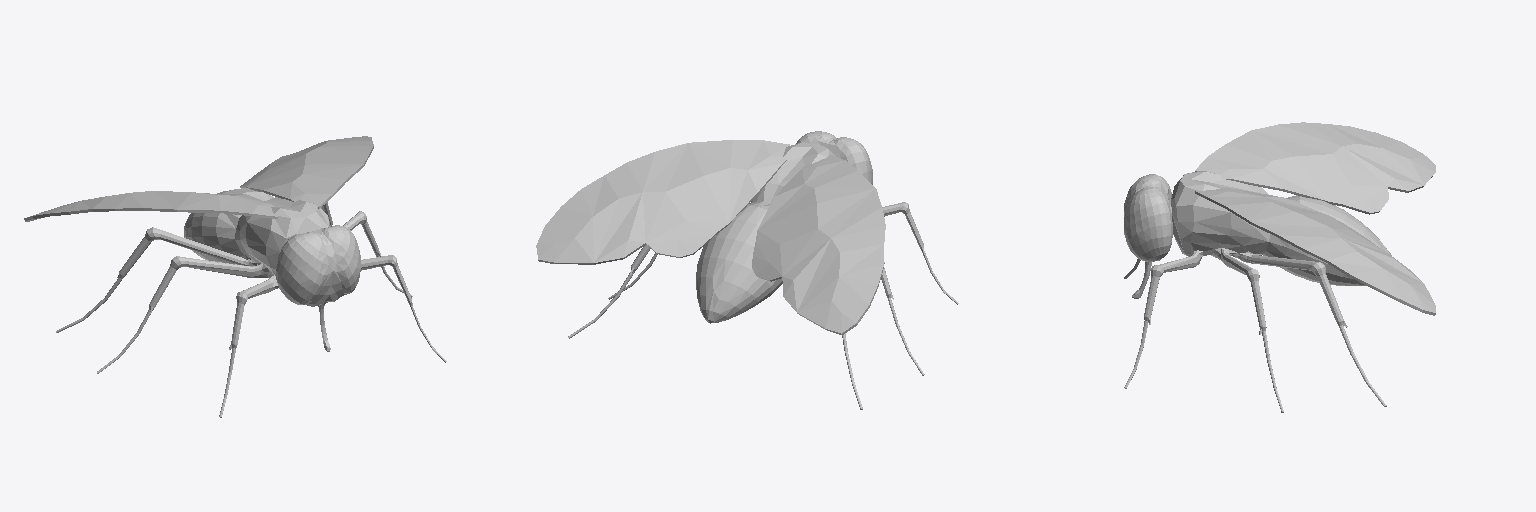
The model's file is FLY.OBJ.
3 renders of one model, left to right at view 1: azimuth 30°, elevation 25°; view 2: azimuth 150°, elevation 25°; view 3: azimuth 270°, elevation 25°, orthographic.
Visible parts, largest first — view 1: fly_body, fly_wing; view 2: fly_wing, fly_body; view 3: fly_wing, fly_body.
Part boxes in pixels (x1,y1,x2,y2): fly_body: (56, 188, 446, 417); fly_wing: (24, 136, 373, 221); fly_wing: (536, 140, 885, 335); fly_body: (568, 131, 958, 409); fly_wing: (1195, 122, 1435, 315); fly_body: (1124, 171, 1391, 412).
Size of the model in its own units: 0.0055 by 0.0026 by 0.0046.